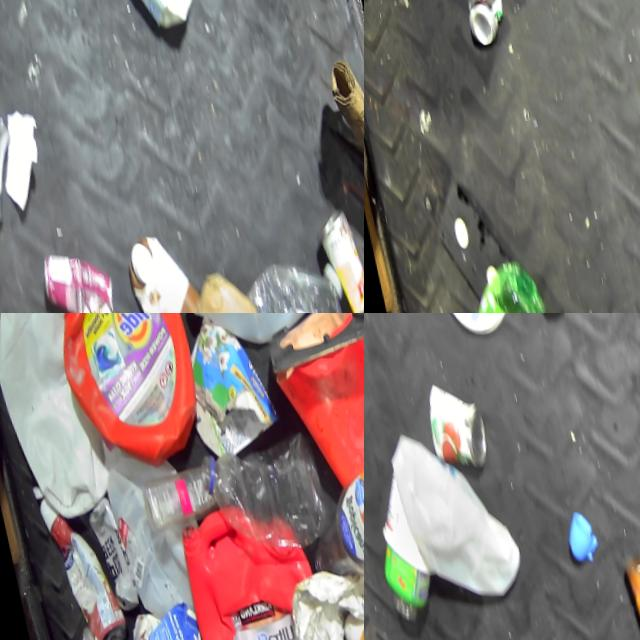can: (412, 371, 487, 478), (313, 209, 364, 313), (42, 246, 111, 303), (453, 0, 506, 47)
milk_jug: (0, 313, 122, 526), (128, 459, 209, 534)
non_white_jug: (174, 500, 341, 640), (45, 313, 199, 464)
plastic_bottle: (190, 426, 321, 551), (207, 251, 364, 313)
